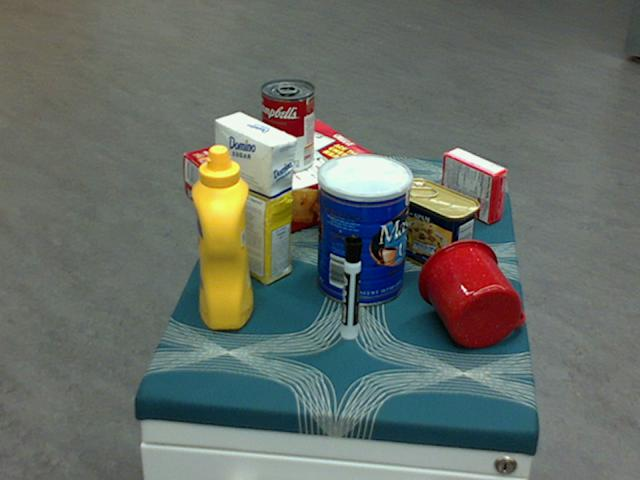cracker_box: (182, 119, 384, 248)
gelatin_box: (441, 147, 508, 223)
large_marker: (341, 233, 361, 340)
master_chef_can: (317, 153, 412, 306)
mug: (418, 237, 523, 347)
mustard_bottle: (191, 145, 252, 329)
potted_meat_can: (393, 178, 479, 273)
sugar_box: (214, 112, 294, 286)
tomato_soup_can: (260, 79, 315, 173)
tuna_fish_can: (316, 159, 386, 230)
